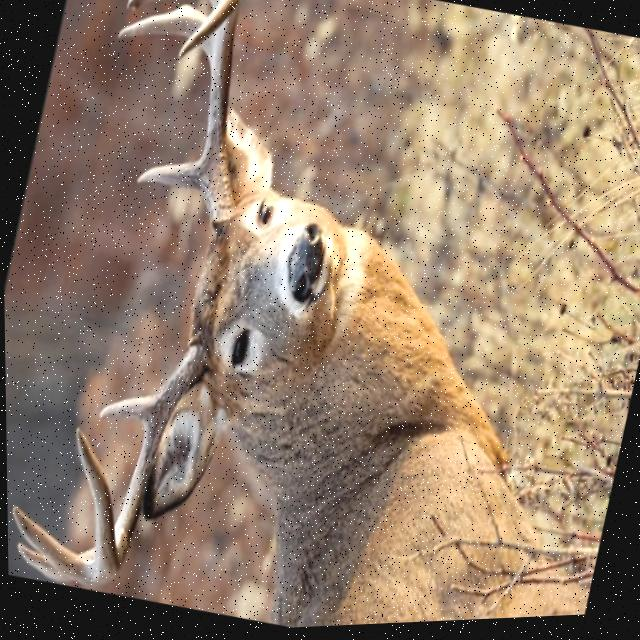L-F: (73, 332, 209, 584)
L-G1: (97, 395, 152, 427)
L-G3: (9, 504, 96, 586)
R-F: (177, 0, 241, 235)
R-G1: (135, 160, 201, 191)
